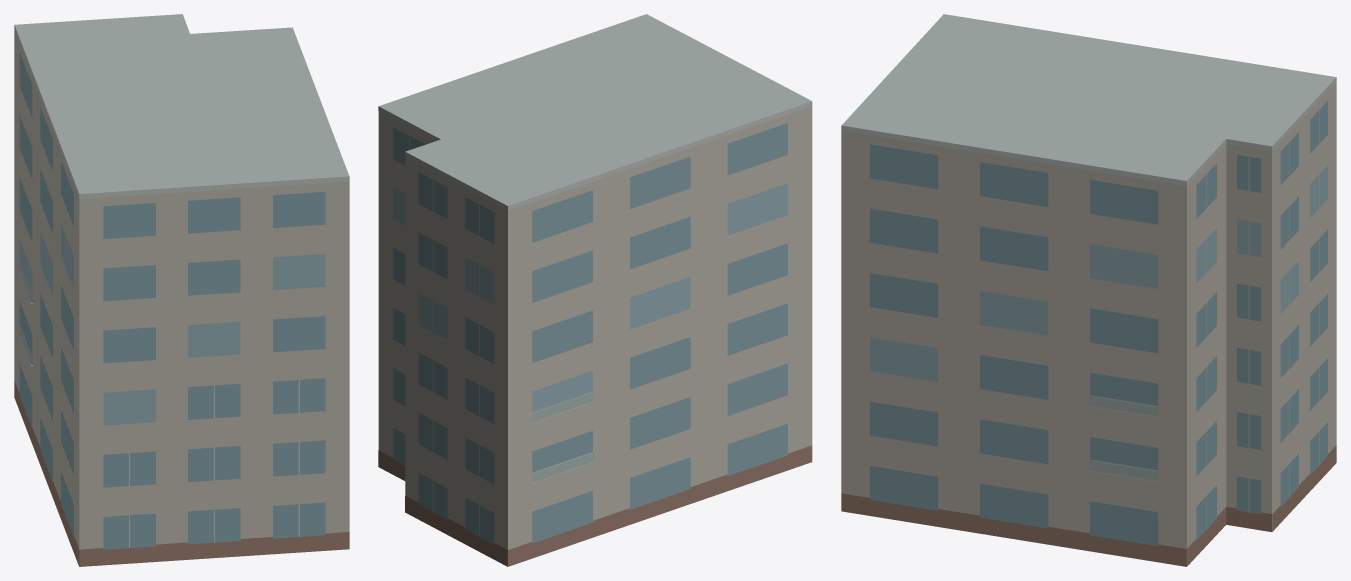
File: survey-upis-32892239.glb
The picture shows the model from 3 angles, left to right: view 1: azimuth 30°, elevation 25°; view 2: azimuth 150°, elevation 25°; view 3: azimuth 270°, elevation 25°; orthographic projection. The views are drawn at different scales.
Visible parts, largest first — view 1: survey-upis-32892239.tmp; view 2: survey-upis-32892239.tmp; view 3: survey-upis-32892239.tmp.
Part boxes in pixels (left/top/right/bottom): survey-upis-32892239.tmp: left=14, top=14, right=349, bottom=566; survey-upis-32892239.tmp: left=378, top=14, right=812, bottom=566; survey-upis-32892239.tmp: left=841, top=14, right=1336, bottom=566.
Bounding box in the file's own units: 17 × 18.3 × 21.29.
